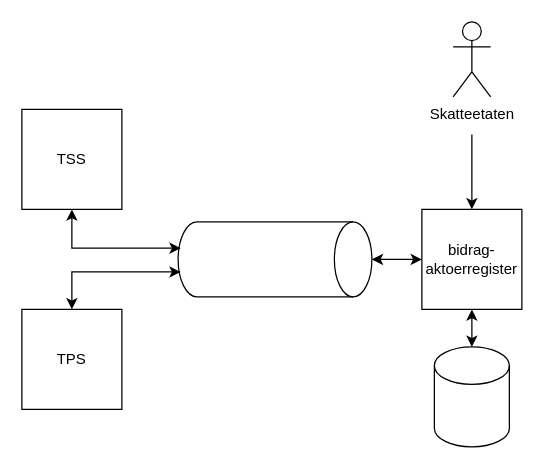
Image size: 544x469. Some labels were removed from this diagram. The shapes that lost their labels are listed below. From the top down, each one's centre as x and y in pixels, then its label:
point 274,259: IBM MQ
point 471,396: Postgres
